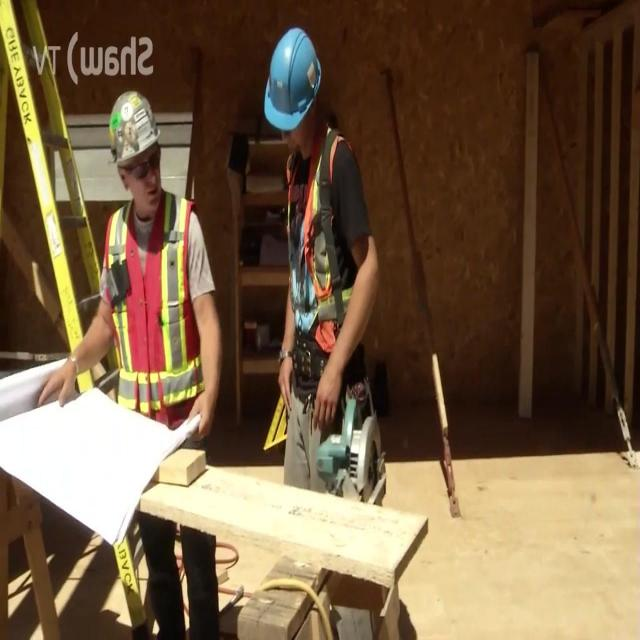Reflective-Jacket: (76, 186, 222, 458), (264, 130, 384, 413)
Safety-Helmet: (257, 19, 327, 140), (101, 78, 166, 176)
